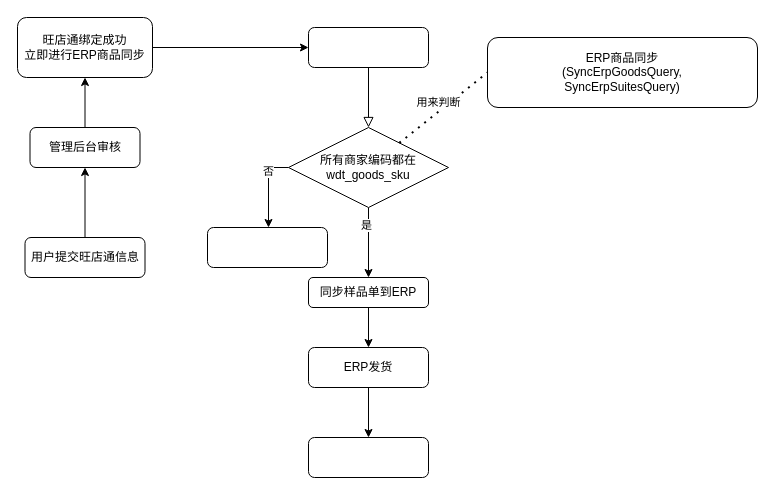
Some shapes in this 775 by 495 pixel diagram are drawn without their labels. The centre of each missing label's shape, as x and y in pixels:
"ERP物流同步 （SyncErpLogistics）" belongs at point 368,457.
"创建样品单" belongs at point 368,47.
"提醒商家编码不存在" belongs at point 267,247.
